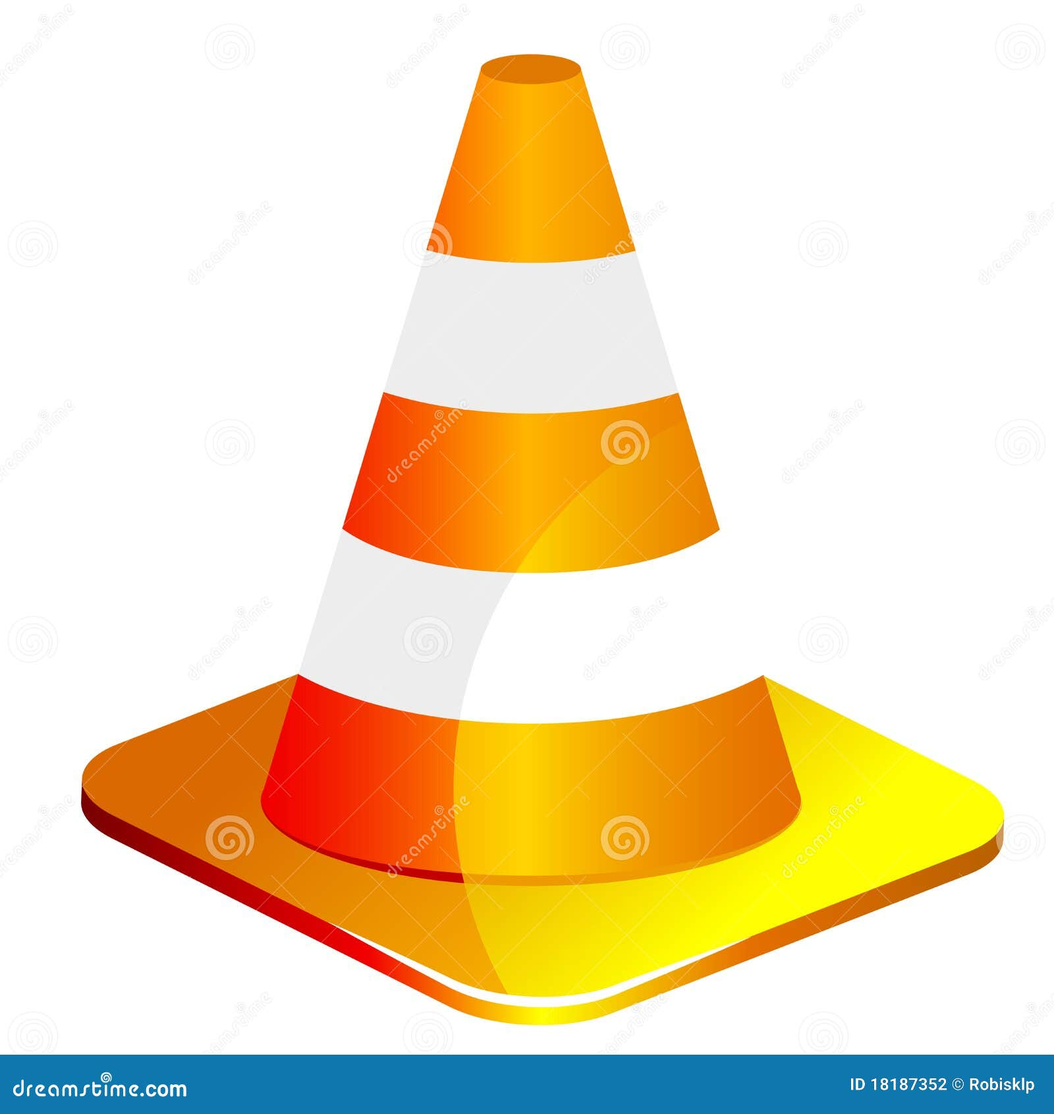Road_cone: (85, 54, 1003, 1023)
